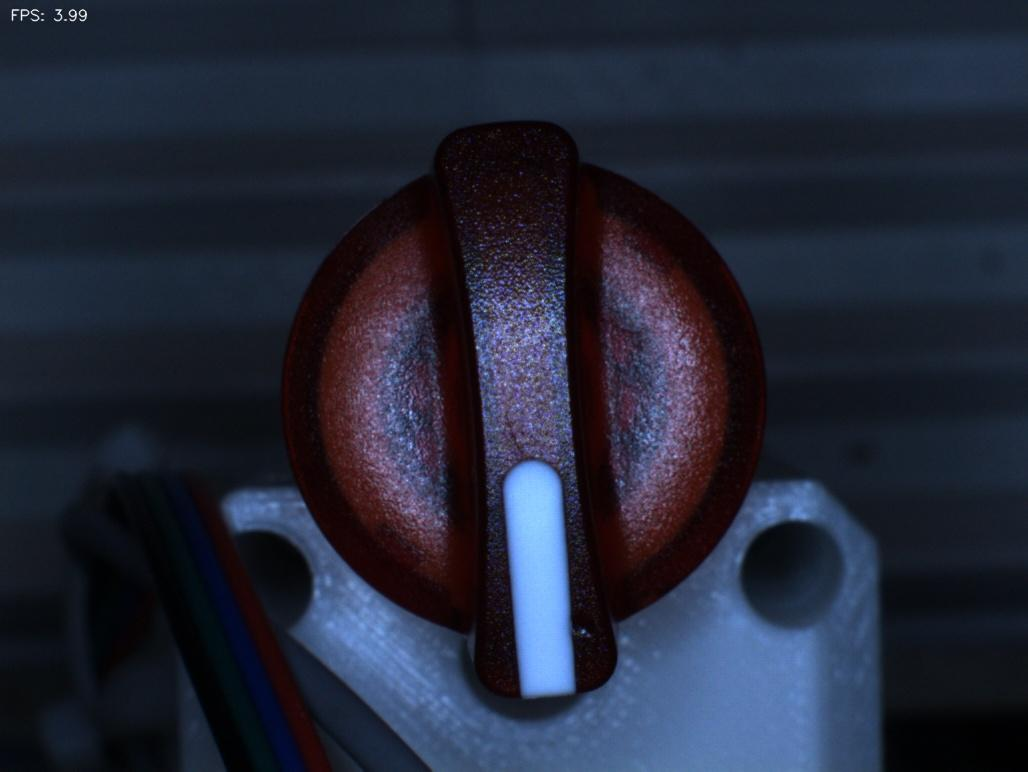Choc: (551, 582, 619, 663)
